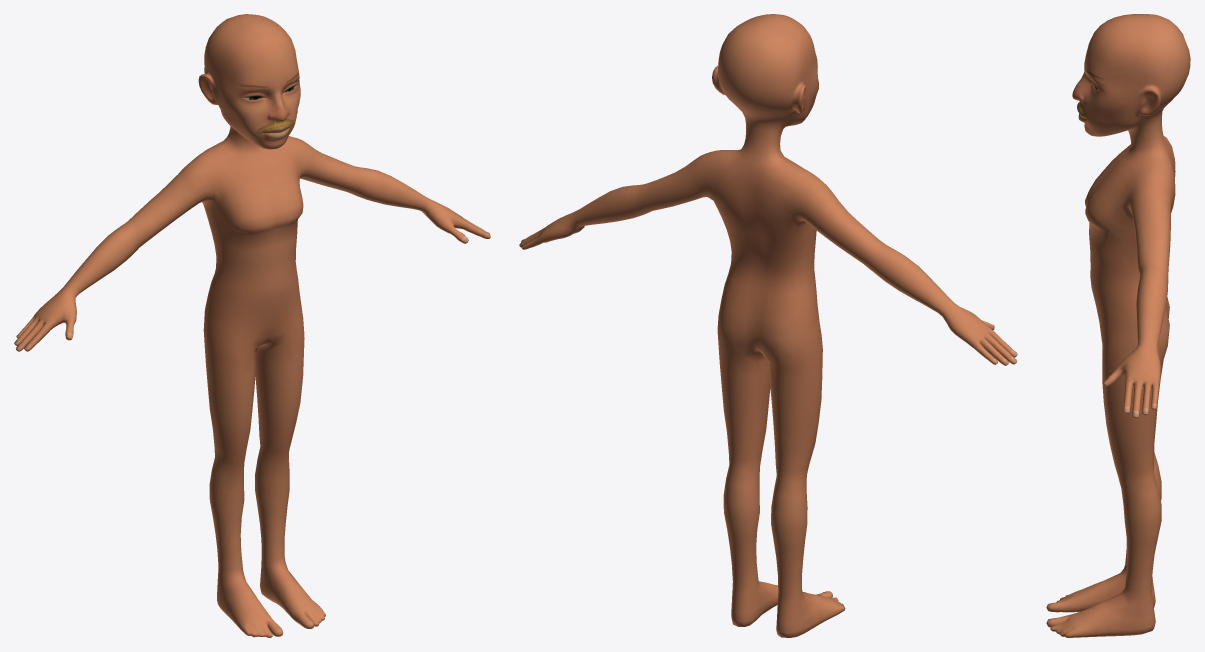
Rendered from frame_0072.glb.
3 renders of one model, left to right at view 1: azimuth 30°, elevation 25°; view 2: azimuth 150°, elevation 25°; view 3: azimuth 270°, elevation 25°, orthographic. The views are drawn at different scales.
Parts seen in each view (by area): view 1: frame_0072_head_geo; view 2: frame_0072_head_geo; view 3: frame_0072_head_geo.
Part boxes in pixels (box(x1,y1,x2,y2)): frame_0072_head_geo: box(14, 14, 490, 637); frame_0072_head_geo: box(519, 14, 1017, 637); frame_0072_head_geo: box(1046, 14, 1190, 637).
Size of the model in its own units: 1.28 by 1.5 by 0.3253.
3 materials, 3 textured.
